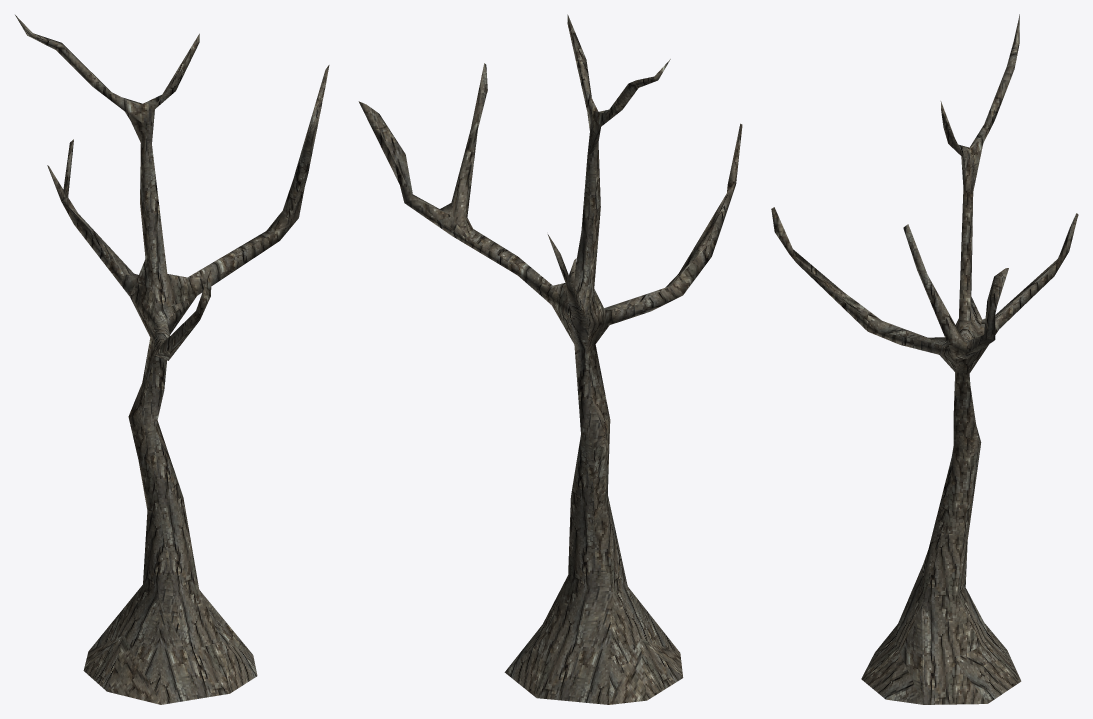
Rendered from fixedTree3.fbx.
The picture shows the model from 3 angles, left to right: view 1: azimuth 30°, elevation 25°; view 2: azimuth 150°, elevation 25°; view 3: azimuth 270°, elevation 25°; orthographic projection. The views are drawn at different scales.
Parts seen in each view (by area): view 1: Tree3; view 2: Tree3; view 3: Tree3.
Boxes of the visible parts, x1=… form: Tree3: x1=15, y1=15, x2=329, y2=704; Tree3: x1=358, y1=14, x2=742, y2=704; Tree3: x1=771, y1=14, x2=1078, y2=704.
Size of the model in its own units: 7.48 by 6.9 by 15.07.
